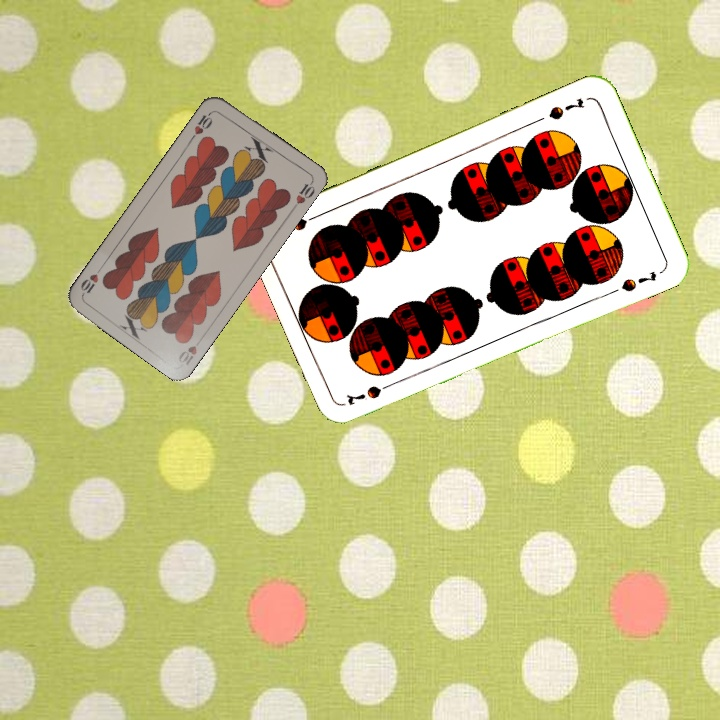H10: (174, 332, 206, 368), (187, 107, 215, 142)
S7: (342, 377, 398, 408), (544, 94, 587, 123)
